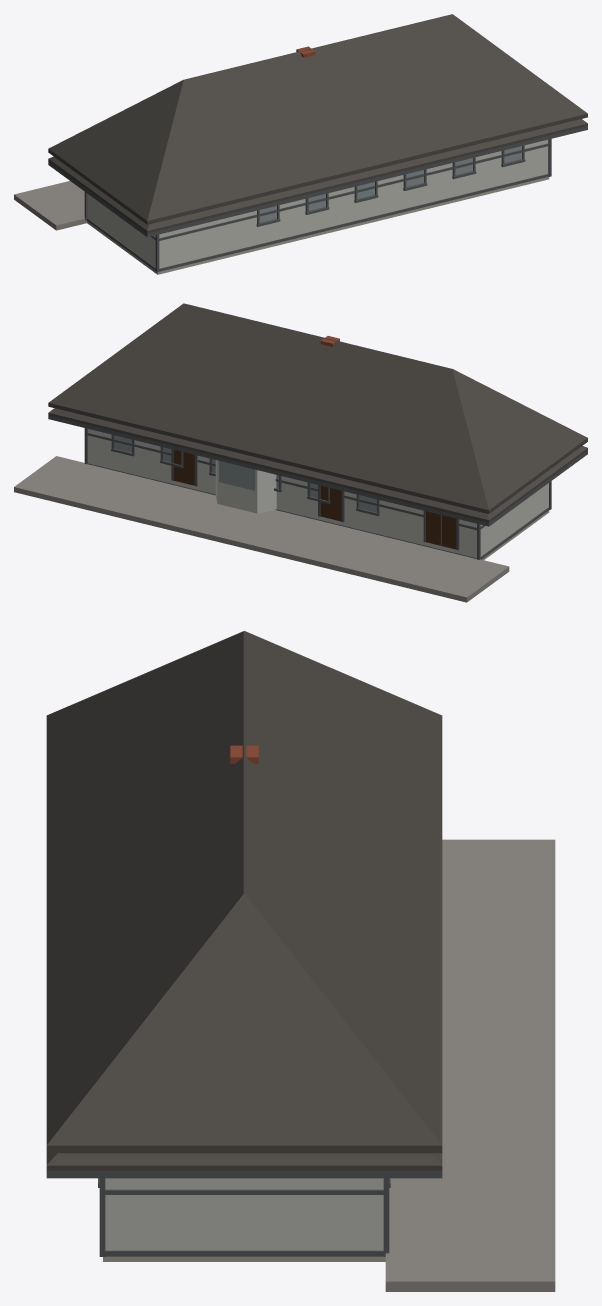
File: Richland_Center_Depot.glb
3 renders of one model, top to bottom at view 1: azimuth 30°, elevation 25°; view 2: azimuth 150°, elevation 25°; view 3: azimuth 270°, elevation 25°, orthographic. The views are drawn at different scales.
Visible parts, largest first — view 1: roof, walls, trim, platform, foundation, glass, sash; view 2: roof, platform, walls, trim, doors, glass, sash; view 3: roof, platform, walls, trim, foundation.
Boxes of the visible parts, x1,y1,x2,y2 form: roof: [48, 14, 587, 233]; walls: [87, 139, 548, 268]; trim: [48, 126, 587, 272]; platform: [14, 181, 86, 230]; foundation: [87, 177, 549, 274]; glass: [260, 146, 521, 222]; sash: [256, 145, 525, 226]; roof: [48, 303, 587, 522]; platform: [14, 456, 509, 602]; walls: [88, 429, 548, 557]; trim: [48, 415, 587, 559]; doors: [173, 450, 456, 549]; glass: [114, 435, 376, 512]; sash: [111, 434, 379, 516]; roof: [46, 631, 442, 1170]; platform: [385, 839, 555, 1291]; walls: [105, 1178, 383, 1250]; trim: [46, 1170, 442, 1256]; foundation: [103, 1256, 385, 1261].
Bounding box in the file's own units: 0.7778 × 0.253 × 0.3784.
